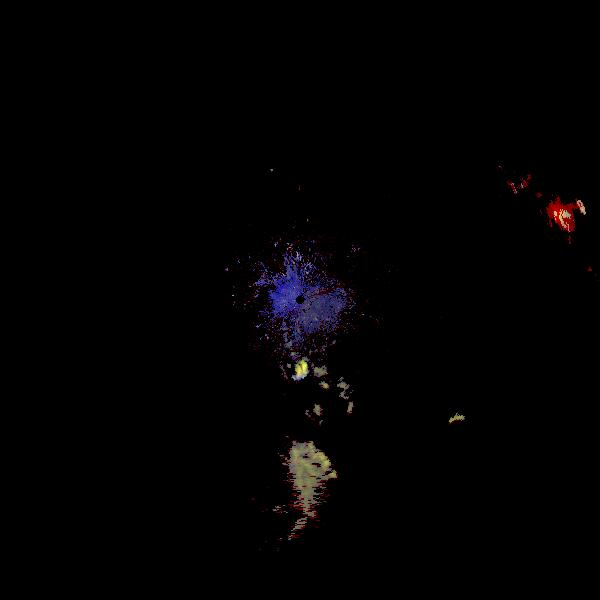roost: (449, 414, 470, 435), (289, 360, 310, 381), (286, 364, 304, 382)
